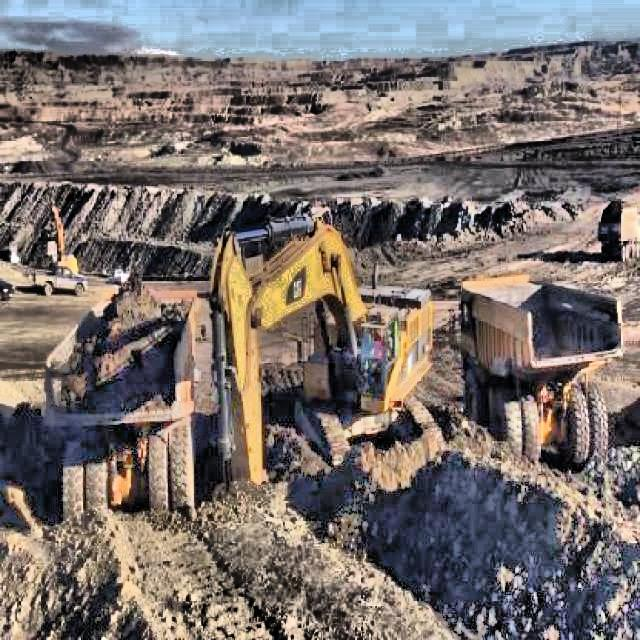dump_truck: (32, 274, 200, 518), (452, 272, 618, 468), (598, 198, 640, 262)
excavator: (194, 206, 437, 488), (48, 208, 77, 266)
